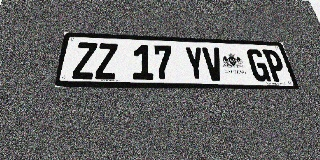1: (133, 44, 153, 80)
7: (153, 45, 174, 80)
G: (246, 49, 271, 82)
P: (262, 49, 288, 82)
V: (202, 47, 225, 81)
Y: (184, 46, 207, 81)
Z: (72, 42, 97, 79), (95, 43, 118, 80)
